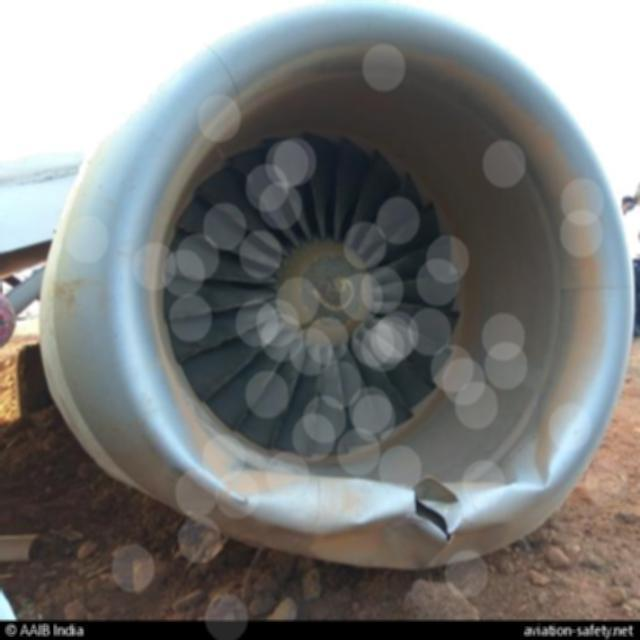crack: (416, 496, 456, 543)
dent: (252, 479, 407, 538), (508, 429, 566, 494), (424, 477, 469, 526)
